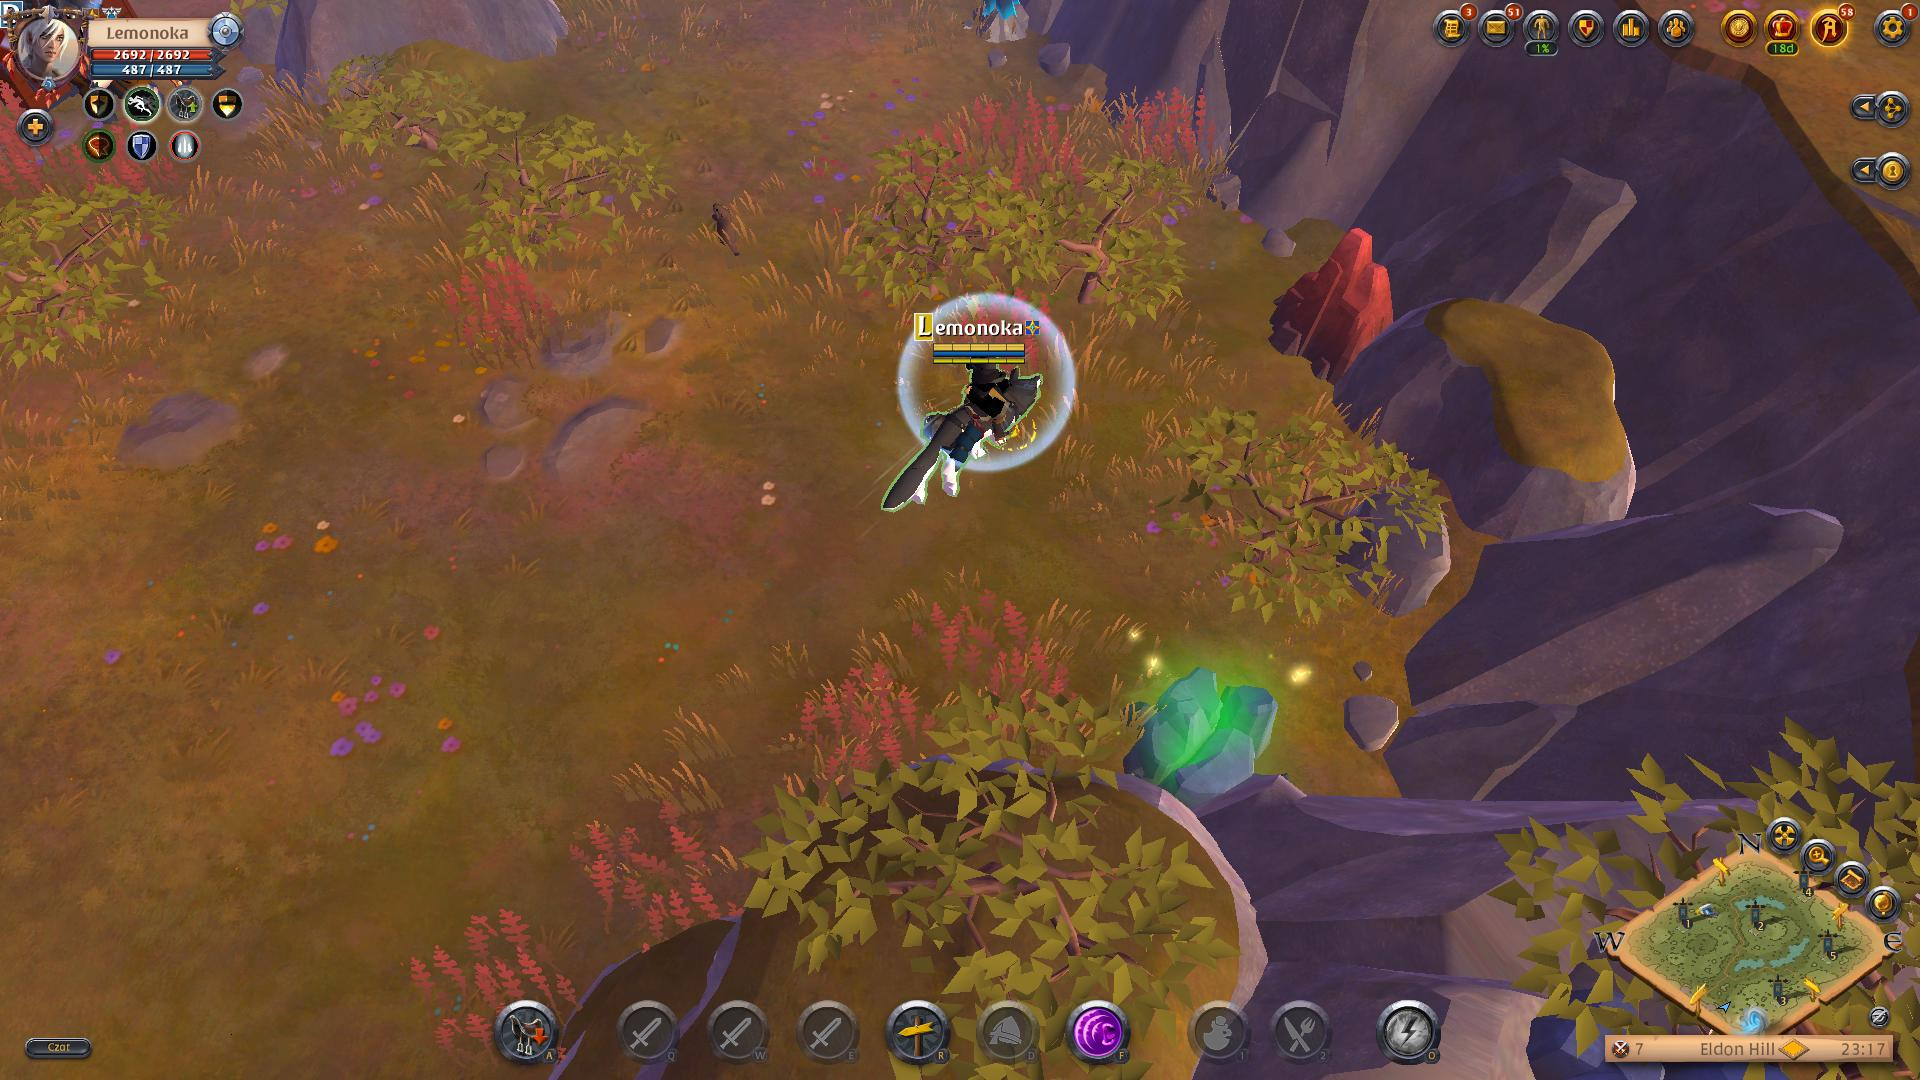rock tier 4: (1120, 662, 1282, 810)
rock tier 5: (1270, 223, 1403, 390)
